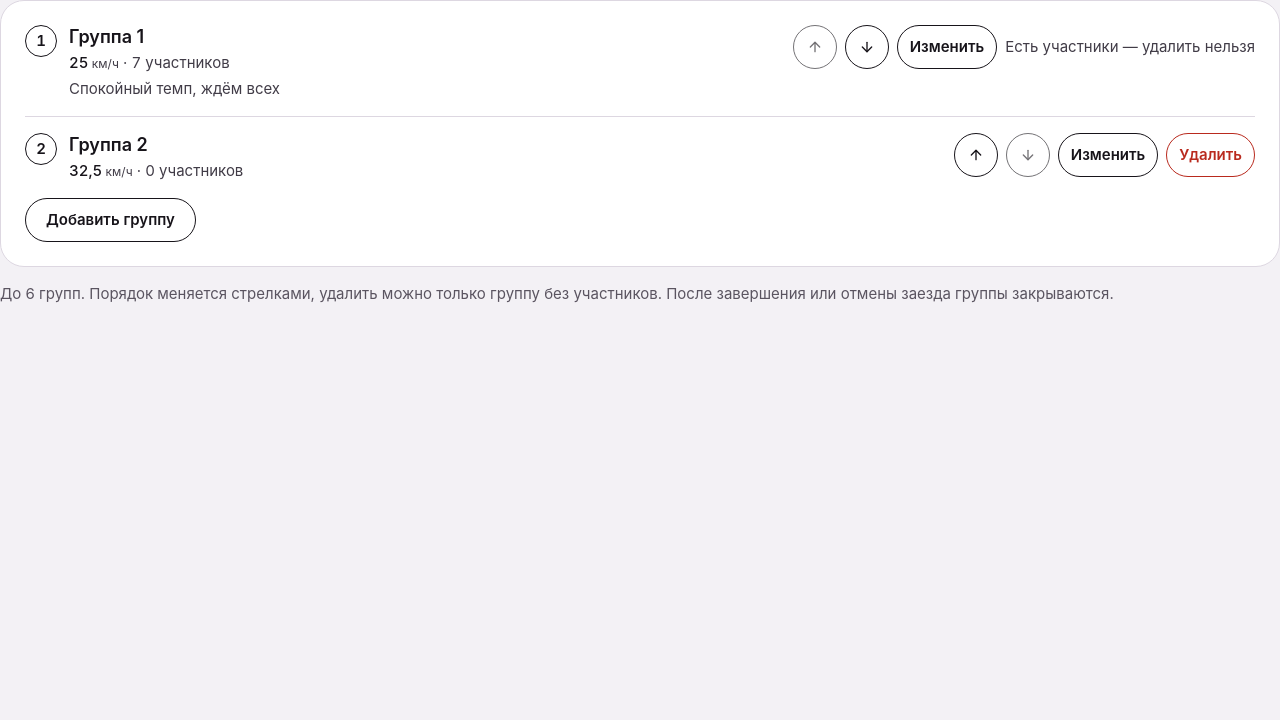
Test: GroupsEditor — server errors › maps group_has_registrations on delete
Click the button with aria-label "Удалить группу «Группа 2»": point(1211, 155) [1166,133,1255,177]
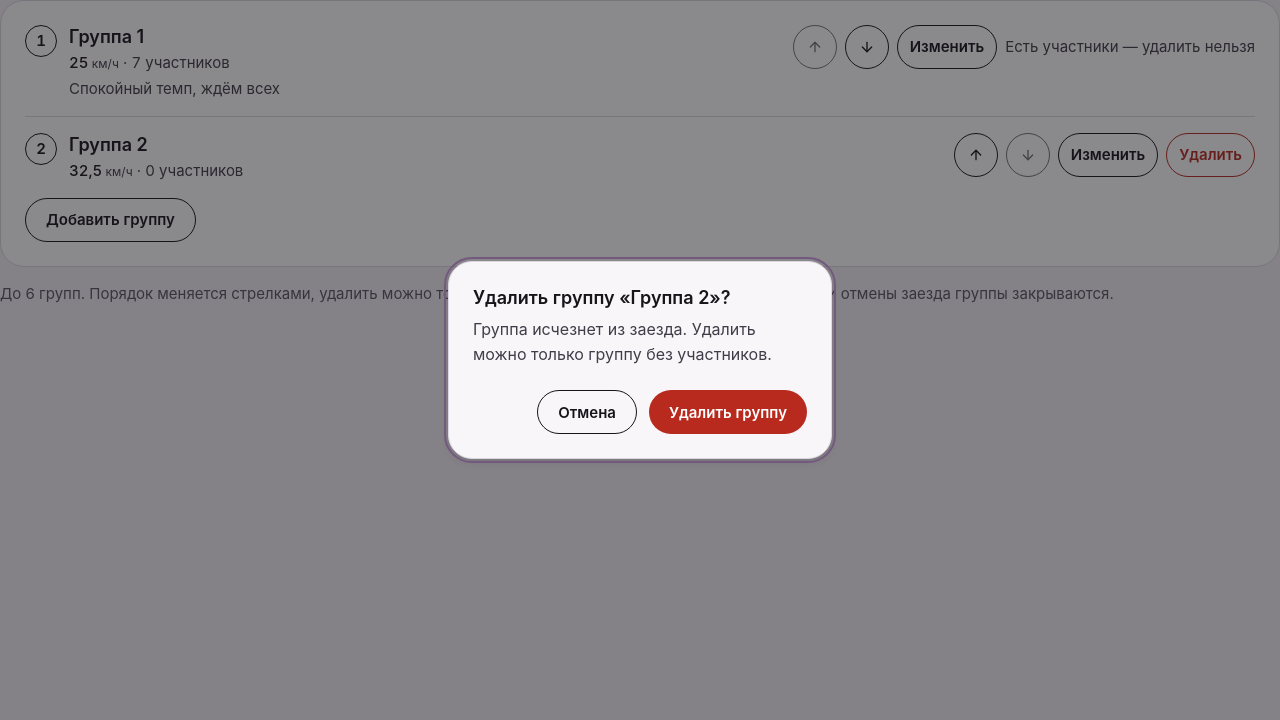
Click the button "Удалить группу": point(728, 412) [649,390,807,434]
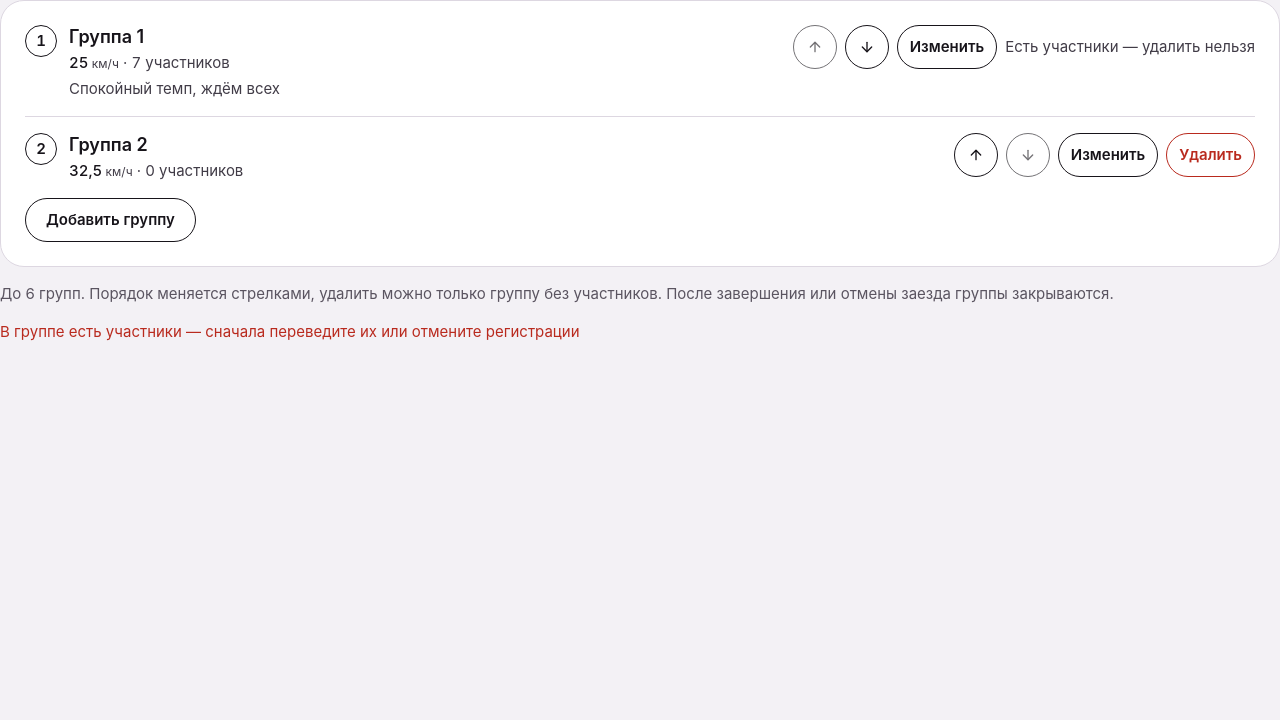
Expected: the text "В группе есть участники — сначала переведите их или отмените регистрации" is shown, [0,322,580,341]
